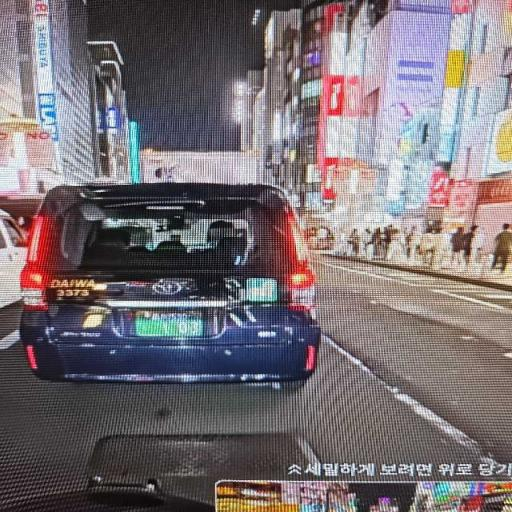car: (20, 184, 319, 382), (0, 210, 26, 307)
lane: (0, 340, 483, 499), (316, 259, 511, 460), (315, 257, 511, 352), (0, 302, 21, 349)
person: (492, 224, 511, 272), (464, 226, 484, 266), (434, 228, 453, 267), (451, 227, 467, 267), (406, 226, 421, 264), (387, 226, 403, 259), (421, 229, 435, 266), (372, 227, 385, 259), (335, 230, 348, 255), (348, 229, 360, 256), (362, 229, 372, 258), (384, 225, 392, 257)
